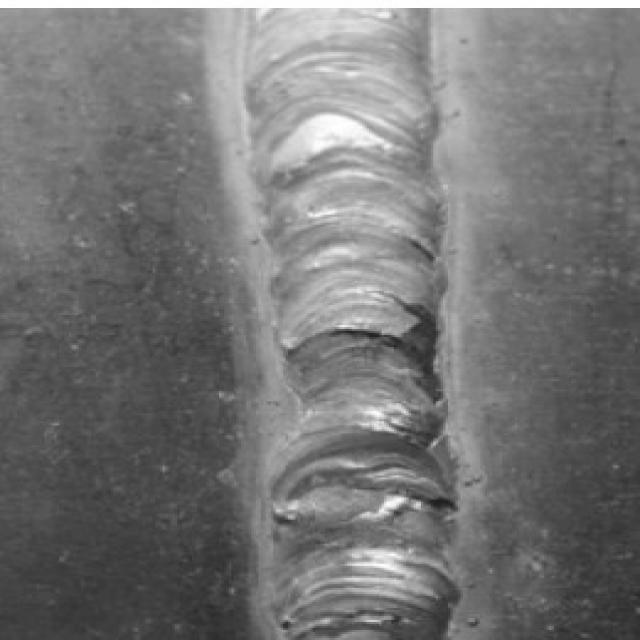Bad Weld: (232, 10, 479, 638)
Defect: (382, 490, 468, 518), (328, 323, 402, 347)
